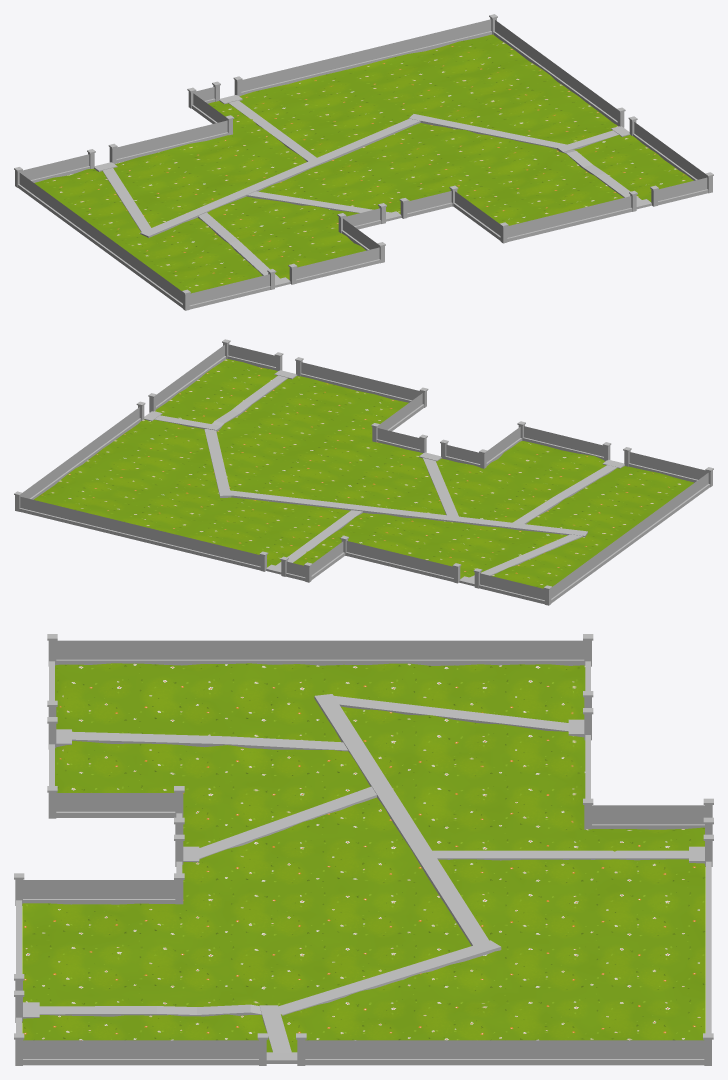
The model's file is Park_.fbx.
3 views of the same model, one above another, from view 1: azimuth 30°, elevation 25°; view 2: azimuth 150°, elevation 25°; view 3: azimuth 270°, elevation 25° (orthographic). The views are drawn at different scales.
Parts seen in each view (by area): view 1: Plane001, Object009, Object014, pave backup003, Object005, Object008, Object012, Object016, Object017, pave backup006, Object007, Object013 (+11 smaller); view 2: Plane001, Object009, Object014, pave backup003, Object008, Object005, Object012, Object016, Object017, Object007, Object013, pave backup005 (+11 smaller); view 3: Plane001, Object014, Object008, Object007, pave backup003, Object004, Object015, pave backup005, Object011, pave backup006, pave backup001, pave backup004 (+4 smaller).
Boxes of the visible parts, x1,y1,x2,y2 form: Plane001: [34, 34, 693, 293]; Object009: [241, 19, 491, 95]; Object014: [18, 173, 182, 308]; pave backup003: [140, 118, 420, 237]; Object005: [507, 196, 632, 241]; Object008: [493, 20, 617, 125]; Object012: [116, 120, 228, 163]; Object016: [296, 247, 380, 283]; Object017: [189, 274, 270, 309]; pave backup006: [408, 114, 566, 149]; Object007: [633, 122, 706, 180]; Object013: [21, 154, 89, 182]; Plane001: [34, 359, 694, 588]; Object009: [19, 496, 260, 570]; Object014: [551, 473, 710, 603]; pave backup003: [230, 490, 587, 536]; Object008: [21, 407, 141, 499]; Object005: [300, 362, 420, 402]; Object012: [346, 541, 453, 581]; Object016: [523, 426, 603, 459]; Object017: [628, 452, 706, 482]; Object007: [156, 345, 226, 409]; Object013: [479, 573, 544, 604]; pave backup005: [513, 465, 617, 524]; Plane001: [22, 663, 705, 1052]; Object014: [56, 640, 584, 665]; Object008: [305, 1040, 704, 1065]; Object007: [23, 1040, 258, 1065]; pave backup003: [314, 694, 488, 945]; Object004: [23, 880, 175, 904]; Object015: [56, 793, 175, 817]; pave backup005: [72, 731, 348, 751]; Object011: [592, 805, 704, 829]; pave backup006: [278, 940, 501, 1015]; pave backup001: [432, 850, 688, 860]; pave backup004: [334, 696, 568, 731].
Bounding box in the file's own units: 72.3 × 2.58 × 53.
